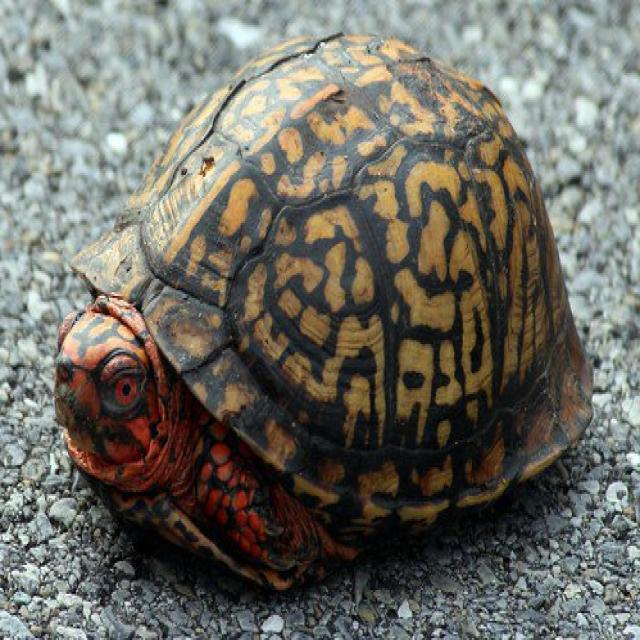turtle: (56, 35, 591, 588)
